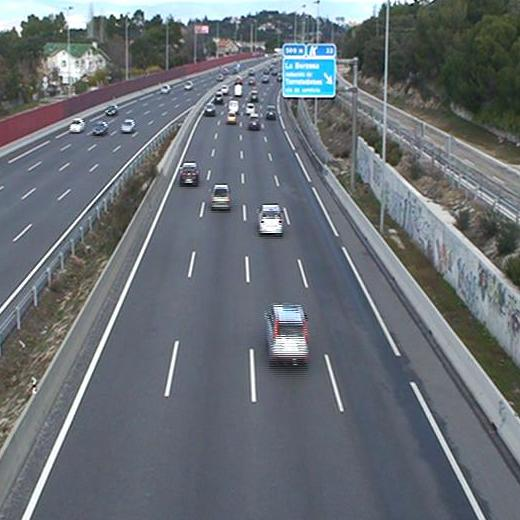car: (263, 303, 311, 361), (256, 203, 285, 235), (209, 184, 231, 208), (179, 163, 199, 185), (246, 113, 261, 128), (227, 99, 240, 112), (265, 104, 276, 118), (205, 103, 215, 115), (226, 112, 236, 123), (243, 102, 254, 112), (250, 90, 259, 102)
